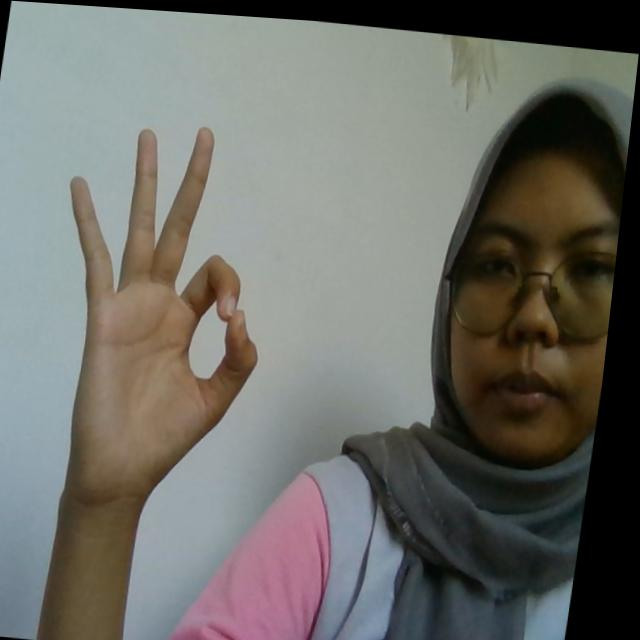F: (37, 109, 294, 501)
